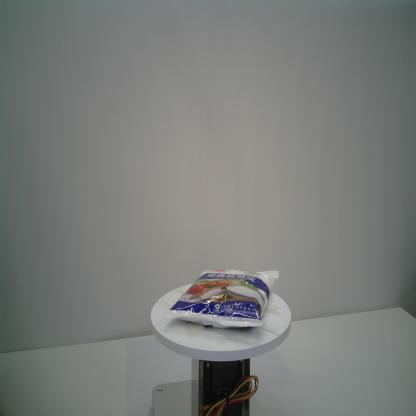Seasoner: (165, 267, 280, 333)
